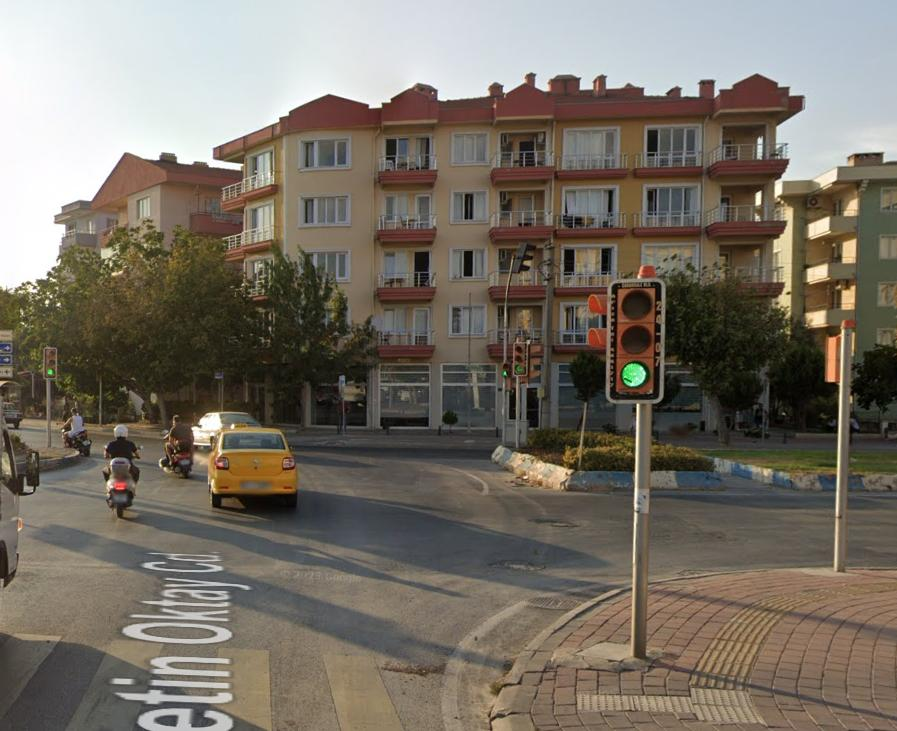greenlight: (610, 278, 662, 404)
